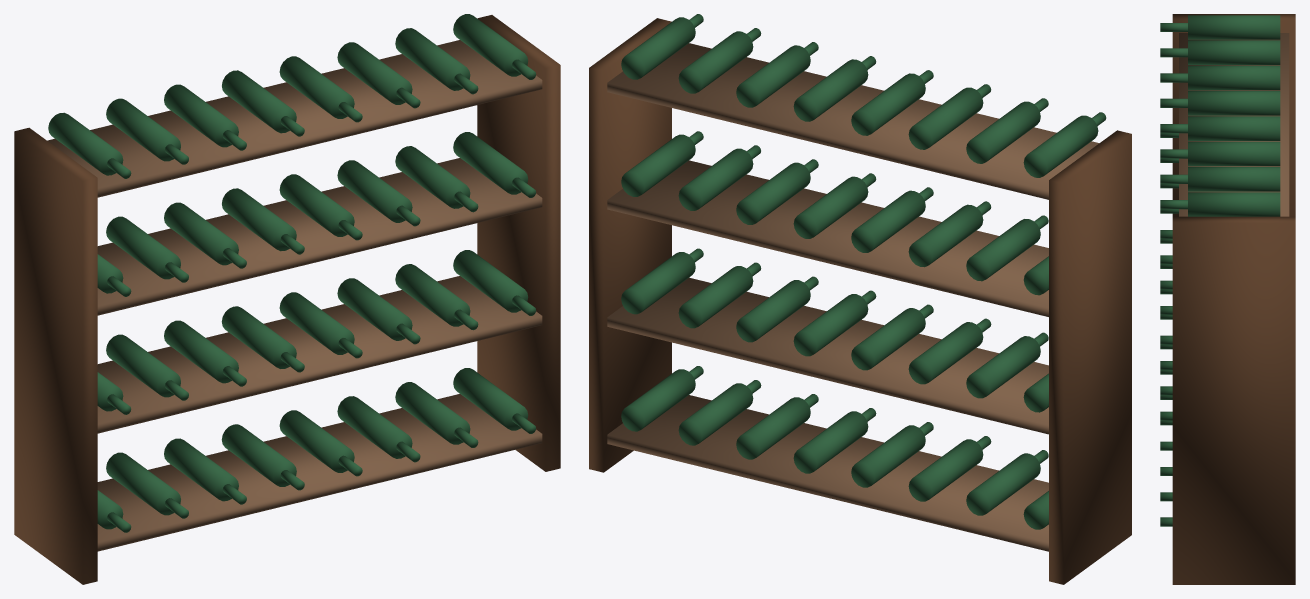
File: rack.glb
The picture shows the model from 3 angles, left to right: view 1: azimuth 30°, elevation 25°; view 2: azimuth 150°, elevation 25°; view 3: azimuth 270°, elevation 25°; orthographic projection. The views are drawn at different scales.
Visible parts, largest first — view 1: post, post.001, slat.003, slat.001, slat, slat.002, bottle.025, bottle.017, bottle.009, bottle.018, bottle.002, bottle.010 (+23 smaller); view 2: post, post.001, slat.003, slat, slat.002, slat.001, bottle.031, bottle.003, bottle.005, bottle.007, bottle.010, bottle.015 (+26 smaller); view 3: post.001, slat.003, post, bottle.026, bottle.029, bottle.024, bottle.025, bottle.027, bottle.028, bottle.030, bottle.031, neck.025 (+7 smaller).
Part boxes in pixels (<box>): post: <box>14,127,97,584</box>; post.001: <box>477,15,560,471</box>; slat.003: <box>47,40,542,197</box>; slat.001: <box>97,276,542,433</box>; slat: <box>97,394,542,551</box>; slat.002: <box>97,158,542,315</box>; bottle.025: <box>106,98,180,161</box>; bottle.017: <box>106,216,180,279</box>; bottle.009: <box>106,334,180,397</box>; bottle.018: <box>164,202,238,265</box>; bottle.002: <box>164,438,238,501</box>; bottle.010: <box>164,320,238,383</box>; post: <box>1049,130,1131,584</box>; post.001: <box>589,18,671,472</box>; slat.003: <box>607,43,1099,199</box>; slat: <box>607,395,1048,551</box>; slat.002: <box>607,160,1048,316</box>; slat.001: <box>607,277,1048,434</box>; bottle.031: <box>621,17,695,79</box>; bottle.003: <box>851,425,925,487</box>; bottle.005: <box>736,397,810,459</box>; bottle.007: <box>621,369,695,431</box>; bottle.010: <box>908,322,983,384</box>; bottle.015: <box>621,252,695,314</box>; post.001: <box>1172,216,1295,584</box>; slat.003: <box>1179,33,1289,216</box>; post: <box>1172,14,1295,216</box>; bottle.026: <box>1188,65,1280,90</box>; bottle.029: <box>1188,141,1280,166</box>; bottle.024: <box>1188,15,1280,39</box>; bottle.025: <box>1188,40,1280,64</box>; bottle.027: <box>1188,91,1280,115</box>; bottle.028: <box>1188,116,1280,140</box>; bottle.030: <box>1188,167,1280,191</box>; bottle.031: <box>1188,192,1280,216</box>; neck.025: <box>1160,48,1187,57</box>.
Size of what is drawn, in the model's own units: 1.61 by 1.35 by 0.44.
